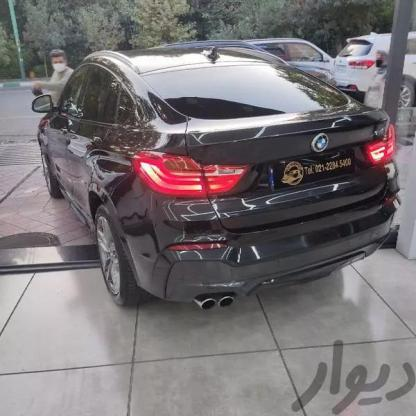Car: (37, 44, 384, 319), (324, 28, 416, 102)
